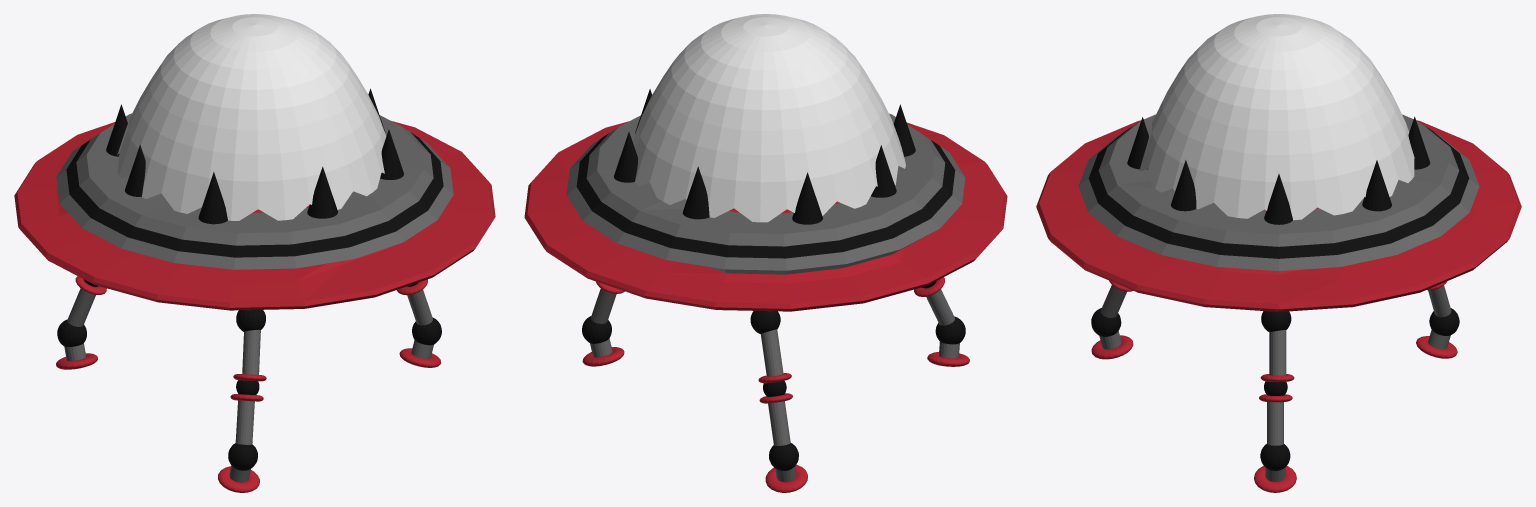
The picture shows the model from 3 angles, left to right: view 1: azimuth 30°, elevation 25°; view 2: azimuth 150°, elevation 25°; view 3: azimuth 270°, elevation 25°; orthographic projection.
Parts seen in each view (by area): view 1: slot_anchor_saucer, slot_dome, slot_legs; view 2: slot_anchor_saucer, slot_dome, slot_legs; view 3: slot_anchor_saucer, slot_dome, slot_legs.
Boxes of the visible parts, <box> form: slot_anchor_saucer: <box>14,88,495,310</box>; slot_dome: <box>117,14,386,220</box>; slot_legs: <box>56,276,441,492</box>; slot_anchor_saucer: <box>524,89,1007,311</box>; slot_dome: <box>632,14,905,222</box>; slot_legs: <box>582,277,969,492</box>; slot_anchor_saucer: <box>1036,114,1521,311</box>; slot_dome: <box>1140,14,1414,220</box>; slot_legs: <box>1091,280,1459,492</box>.
Bounding box in the file's own units: 2 × 1.73 × 2.
Materials: 1 (1 with a texture image).
